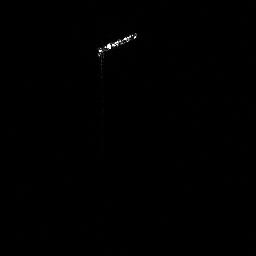ship: (93, 29, 140, 60)
